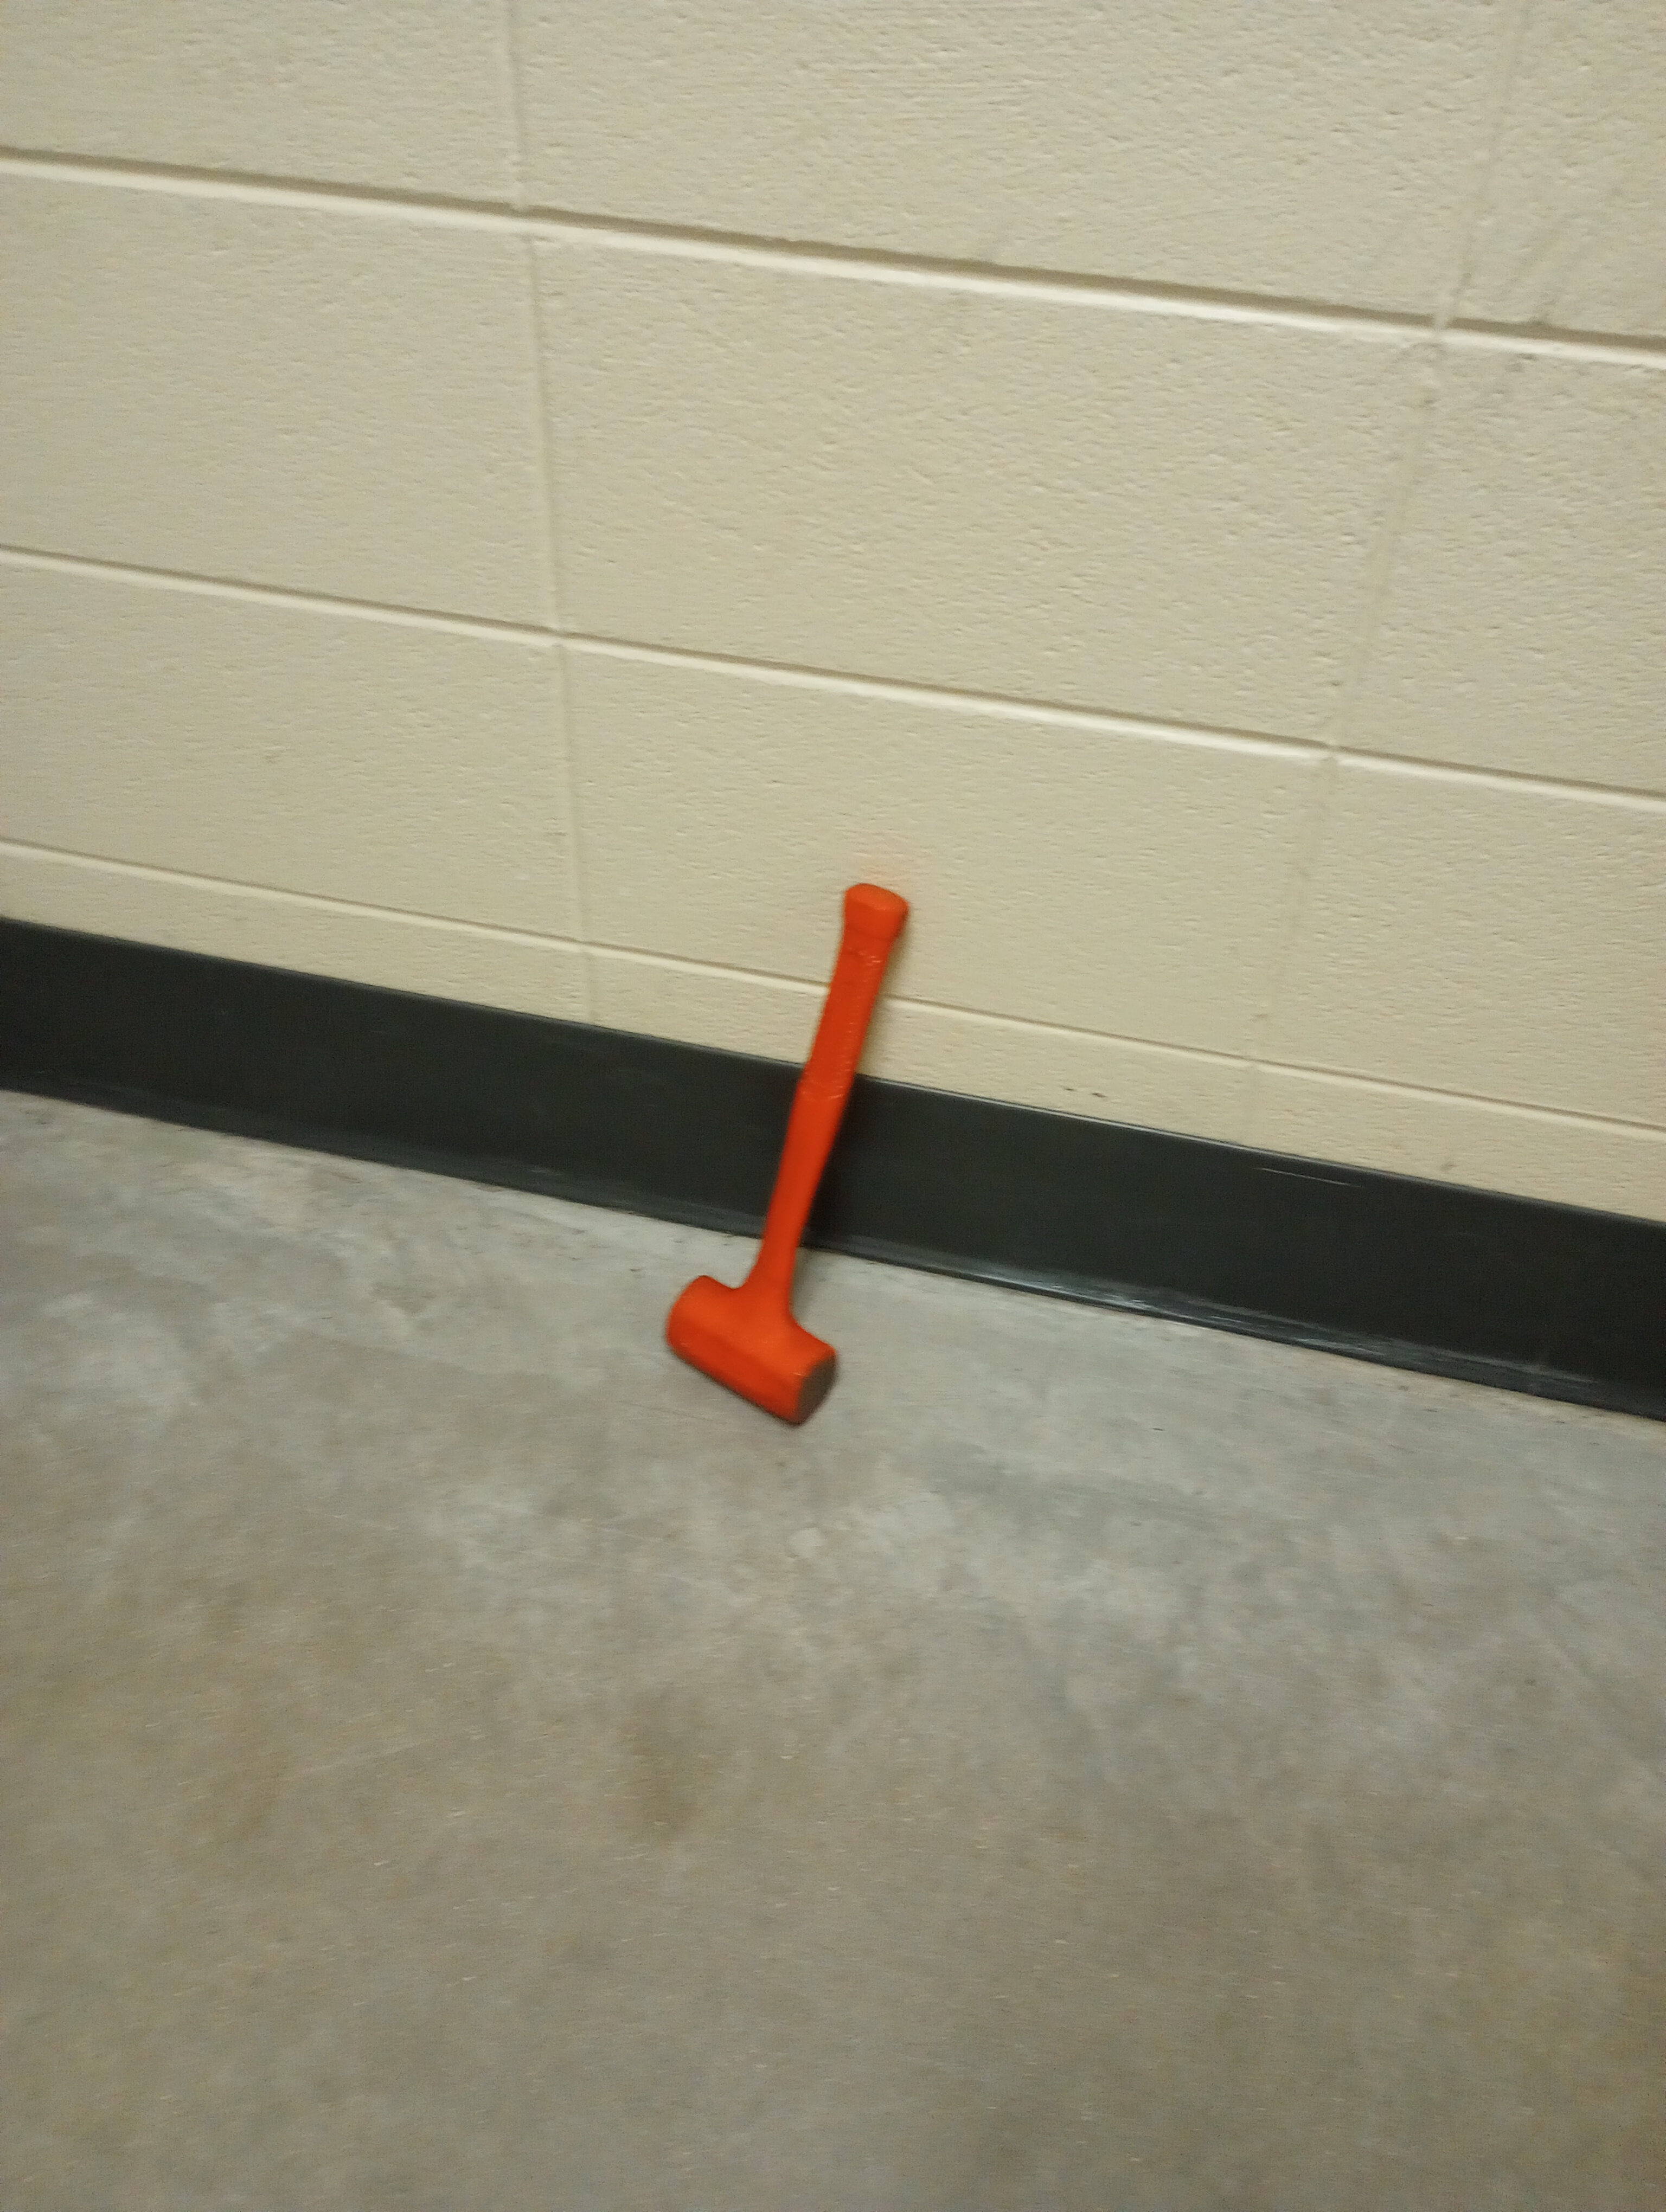bottle: (660, 873, 912, 1430)
